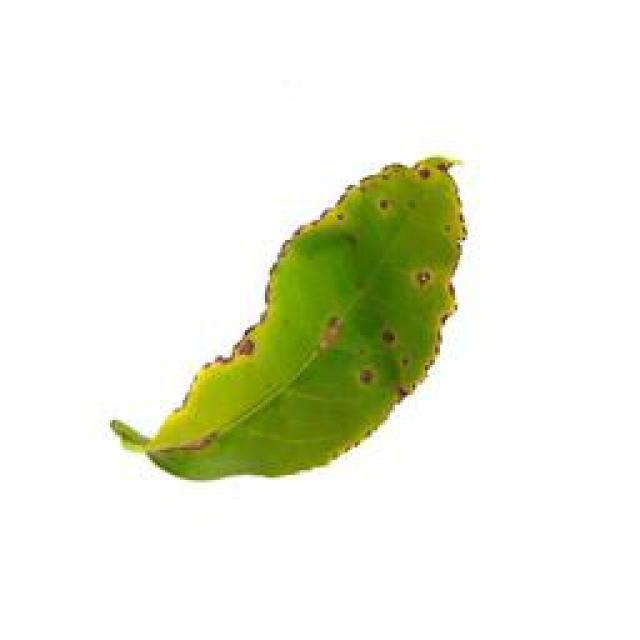Helopeltis: (114, 141, 472, 491)
